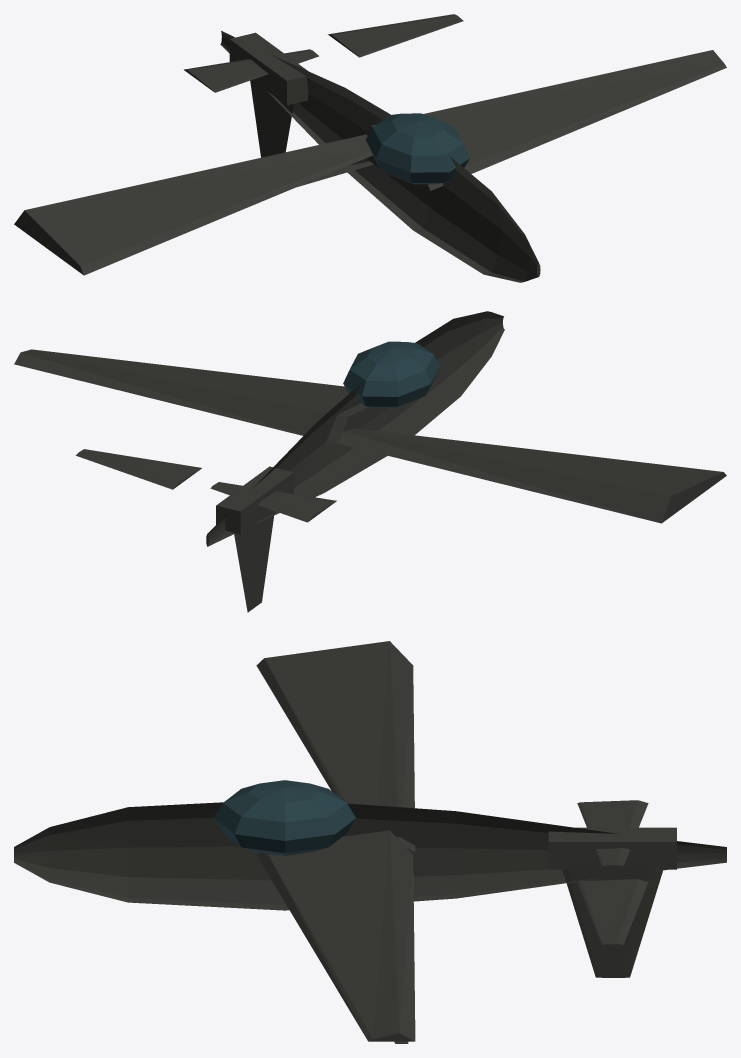
The model's file is typhoon_Destroyed.glb.
The picture shows the model from 3 angles, top to bottom: view 1: azimuth 30°, elevation 25°; view 2: azimuth 150°, elevation 25°; view 3: azimuth 270°, elevation 25°; orthographic projection. The views are drawn at different scales.
Parts seen in each view (by area): view 1: Wing_L, Fuselage, Wing_R, Cockpit, TailBoom, Elevator_R, Rudder, Elevator_L; view 2: Wing_L, Wing_R, Fuselage, Cockpit, TailBoom, Rudder, Elevator_R, Elevator_L; view 3: Fuselage, Wing_R, Wing_L, Cockpit, TailBoom, Rudder, Elevator_R, Elevator_L.
Part boxes in pixels (box(x1,y1,x2,y2)): Wing_L: box(14, 134, 372, 275); Fuselage: box(220, 30, 540, 282); Wing_R: box(364, 50, 726, 190); Cockpit: box(365, 113, 469, 184); TailBoom: box(229, 32, 308, 105); Elevator_R: box(328, 14, 463, 57); Rudder: box(250, 80, 293, 157); Elevator_L: box(184, 49, 318, 92); Wing_L: box(337, 428, 726, 523); Wing_R: box(14, 349, 387, 444); Fuselage: box(206, 311, 504, 546); Cockpit: box(343, 341, 440, 407); TailBoom: box(216, 466, 293, 534); Rudder: box(234, 510, 274, 612); Elevator_R: box(76, 449, 201, 489); Elevator_L: box(210, 482, 336, 522); Fuselage: box(14, 802, 726, 910); Wing_R: box(256, 830, 415, 1041); Wing_L: box(256, 641, 415, 852); Cockpit: box(214, 780, 355, 855); TailBoom: box(548, 827, 676, 869); Rudder: box(562, 869, 662, 977); Elevator_R: box(577, 879, 648, 944); Elevator_L: box(577, 800, 648, 865).
Size of the model in its own units: 12.19 by 2.85 by 9.7.
